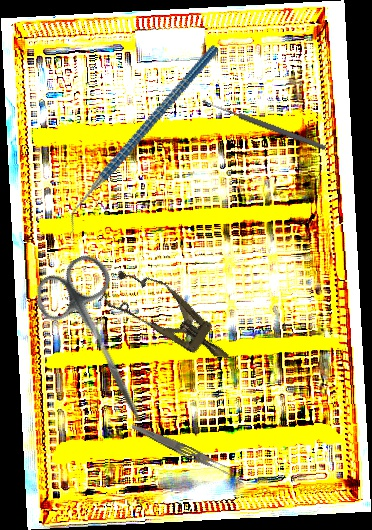Chopper: (23, 43, 262, 236)
Dressing Forceps: (128, 421, 237, 479)
Iris Scissors: (26, 248, 179, 440)
Speculum: (97, 258, 243, 379)
Surgical Spoon: (201, 97, 327, 152)
